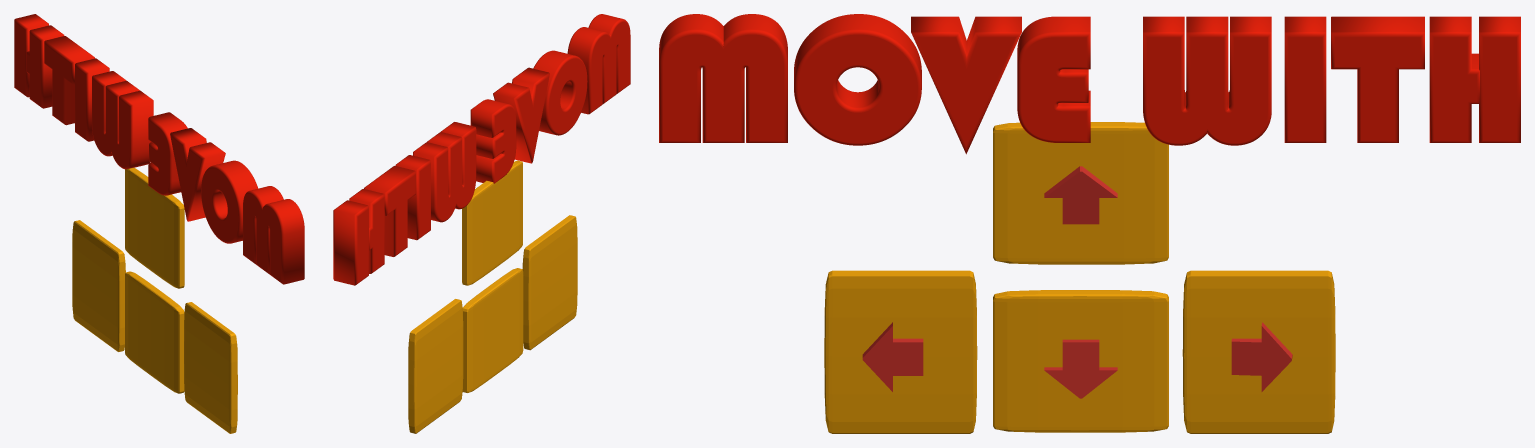
The model's file is pressUp2.fbx.
3 views of the same model, side by side, from view 1: azimuth 30°, elevation 25°; view 2: azimuth 150°, elevation 25°; view 3: azimuth 270°, elevation 25° (orthographic). The views are drawn at different scales.
Parts seen in each view (by area): view 1: Text, Cube.001, Cube.004, Cube.008, Cube.005; view 2: Text, Cube.004, Cube.001, Cube.008, Cube.005; view 3: Text, Cube.008, Cube.004, Cube.001, Cube.005, Cube.006, Cube.007, Cube.003, Cube.002.
Boxes of the visible parts, box(x1,y1,x2,y2) form: Text: box(14, 14, 304, 284); Cube.001: box(184, 302, 237, 433); Cube.004: box(72, 220, 125, 351); Cube.008: box(125, 271, 184, 393); Cube.005: box(125, 167, 184, 288); Text: box(333, 14, 630, 285); Cube.004: box(408, 299, 463, 433); Cube.001: box(522, 215, 577, 350); Cube.008: box(462, 268, 523, 392); Cube.005: box(462, 160, 522, 285); Text: box(659, 14, 1520, 154); Cube.008: box(993, 290, 1168, 432); Cube.004: box(1182, 270, 1335, 433); Cube.001: box(824, 270, 977, 433); Cube.005: box(993, 122, 1168, 264); Cube.006: box(1044, 166, 1117, 224); Cube.007: box(1044, 339, 1117, 398); Cube.003: box(1231, 322, 1292, 391); Cube.002: box(862, 322, 923, 391).
Size of the model in its own units: 22 by 233 by 437.
